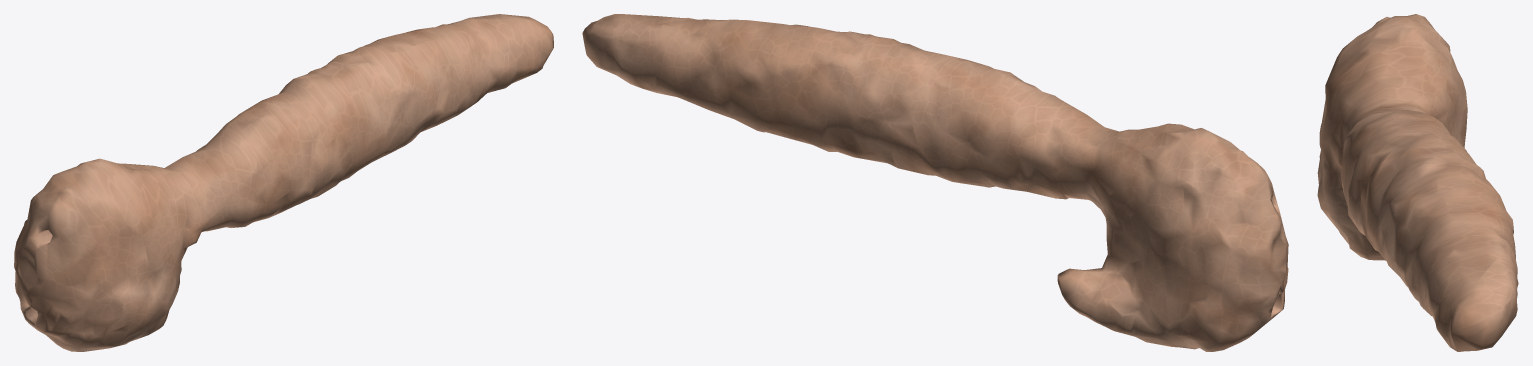
The model's file is overview.glb.
3 views of the same model, side by side, from view 1: azimuth 30°, elevation 25°; view 2: azimuth 150°, elevation 25°; view 3: azimuth 270°, elevation 25° (orthographic). The views are drawn at different scales.
Visible parts, largest first — view 1: pancreas; view 2: pancreas; view 3: pancreas.
Boxes of the visible parts, box(x1,y1,x2,y2) form: pancreas: box(14, 14, 553, 351); pancreas: box(582, 14, 1288, 351); pancreas: box(1317, 14, 1518, 351).
Bounding box in the file's own units: 0.1354 × 0.0478 × 0.034.
1 material, 1 textured.
